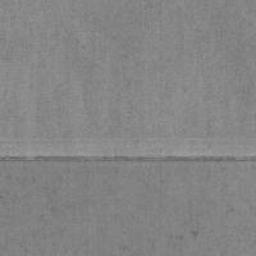Welding line: (0, 154, 256, 164)
